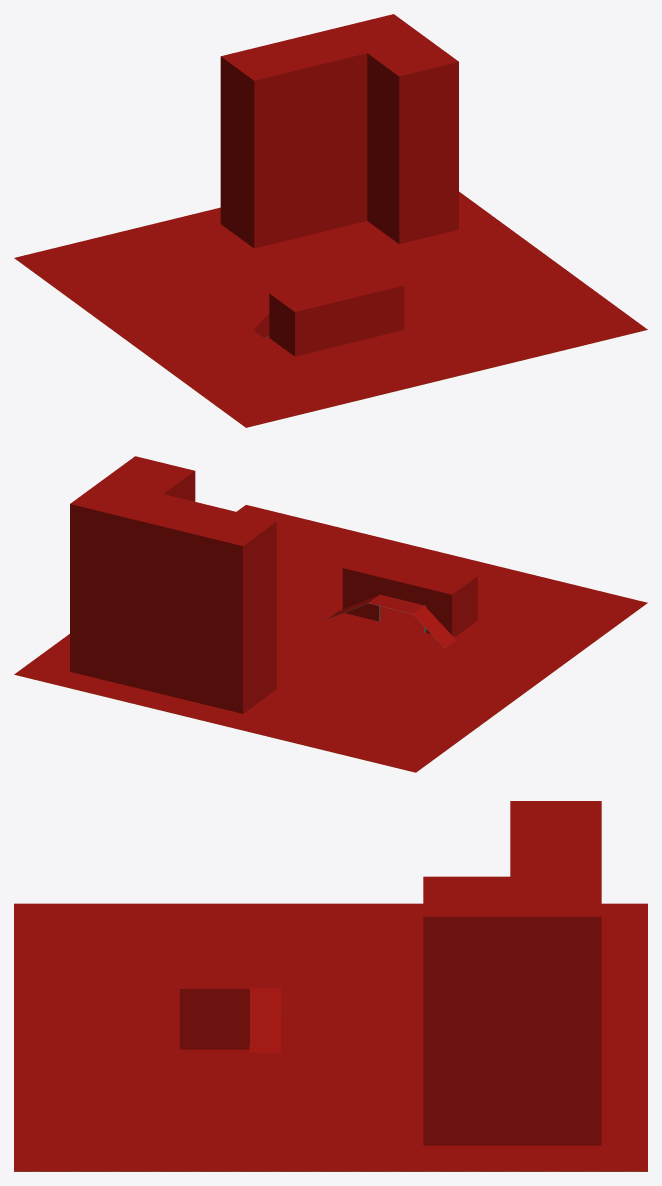
File: level1.obj
3 renders of one model, top to bottom at view 1: azimuth 30°, elevation 25°; view 2: azimuth 150°, elevation 25°; view 3: azimuth 270°, elevation 25°, orthographic. The views are drawn at different scales.
Visible parts, largest first — view 1: Plane.001, Cube.002, Cube.001; view 2: Plane.001, Cube.002, Cube.001, Plane.002; view 3: Plane.001, Cube.002, Cube.001, Plane.002, Plane.
Part boxes in pixels (bbox=[...]): Plane.001: bbox=[14, 191, 647, 427]; Cube.002: bbox=[220, 14, 458, 248]; Cube.001: bbox=[269, 266, 404, 356]; Plane.001: bbox=[14, 505, 647, 772]; Cube.002: bbox=[70, 456, 276, 713]; Cube.001: bbox=[342, 549, 477, 637]; Plane.002: bbox=[327, 594, 455, 647]; Plane.001: bbox=[14, 903, 647, 1171]; Cube.002: bbox=[423, 801, 601, 1145]; Cube.001: bbox=[179, 916, 249, 1049]; Plane.002: bbox=[249, 958, 281, 1052]; Plane: bbox=[14, 1171, 647, 1171].
Size of the model in its own units: 197 by 79.64 by 197.
Materials: 5 (4 with a texture image).
